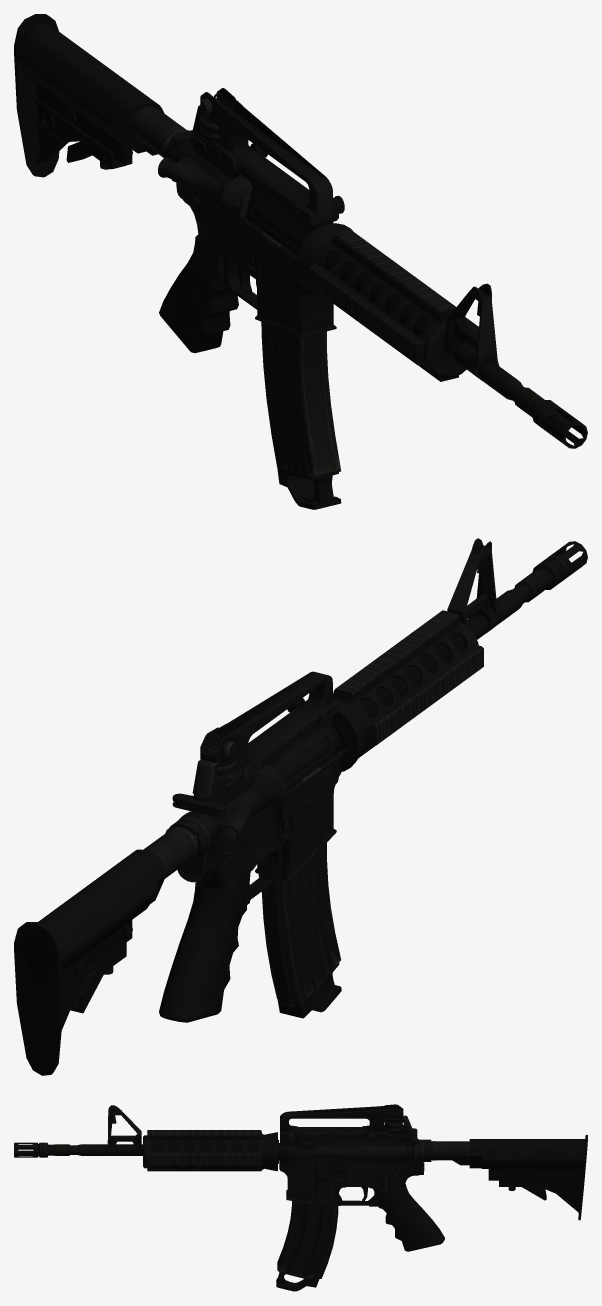
The picture shows the model from 3 angles, top to bottom: view 1: azimuth 30°, elevation 25°; view 2: azimuth 150°, elevation 25°; view 3: azimuth 270°, elevation 25°; orthographic projection. The views are drawn at different scales.
Parts seen in each view (by area): view 1: Mesh_0011, mag, Mesh_0013, Mesh_0014, dustcover; view 2: Mesh_0011, mag, Mesh_0013, Mesh_0014, dustcover, Bolt; view 3: Mesh_0011, mag, Mesh_0013, Mesh_0014.
Part boxes in pixels (x1,y1,x2,y2): Mesh_0011: (14, 14, 587, 448); mag: (261, 322, 341, 509); Mesh_0013: (193, 88, 344, 225); Mesh_0014: (444, 283, 499, 380); dustcover: (240, 217, 299, 285); Mesh_0011: (14, 541, 587, 1075); mag: (261, 843, 341, 1018); Mesh_0013: (192, 671, 337, 797); Mesh_0014: (447, 538, 498, 635); dustcover: (281, 748, 346, 821); Bolt: (172, 793, 225, 817); Mesh_0011: (14, 1130, 587, 1251); mag: (276, 1188, 338, 1291); Mesh_0013: (280, 1104, 413, 1141); Mesh_0014: (107, 1105, 141, 1155).
Bounding box in the file's own units: 6.8 × 30.92 × 88.48.
